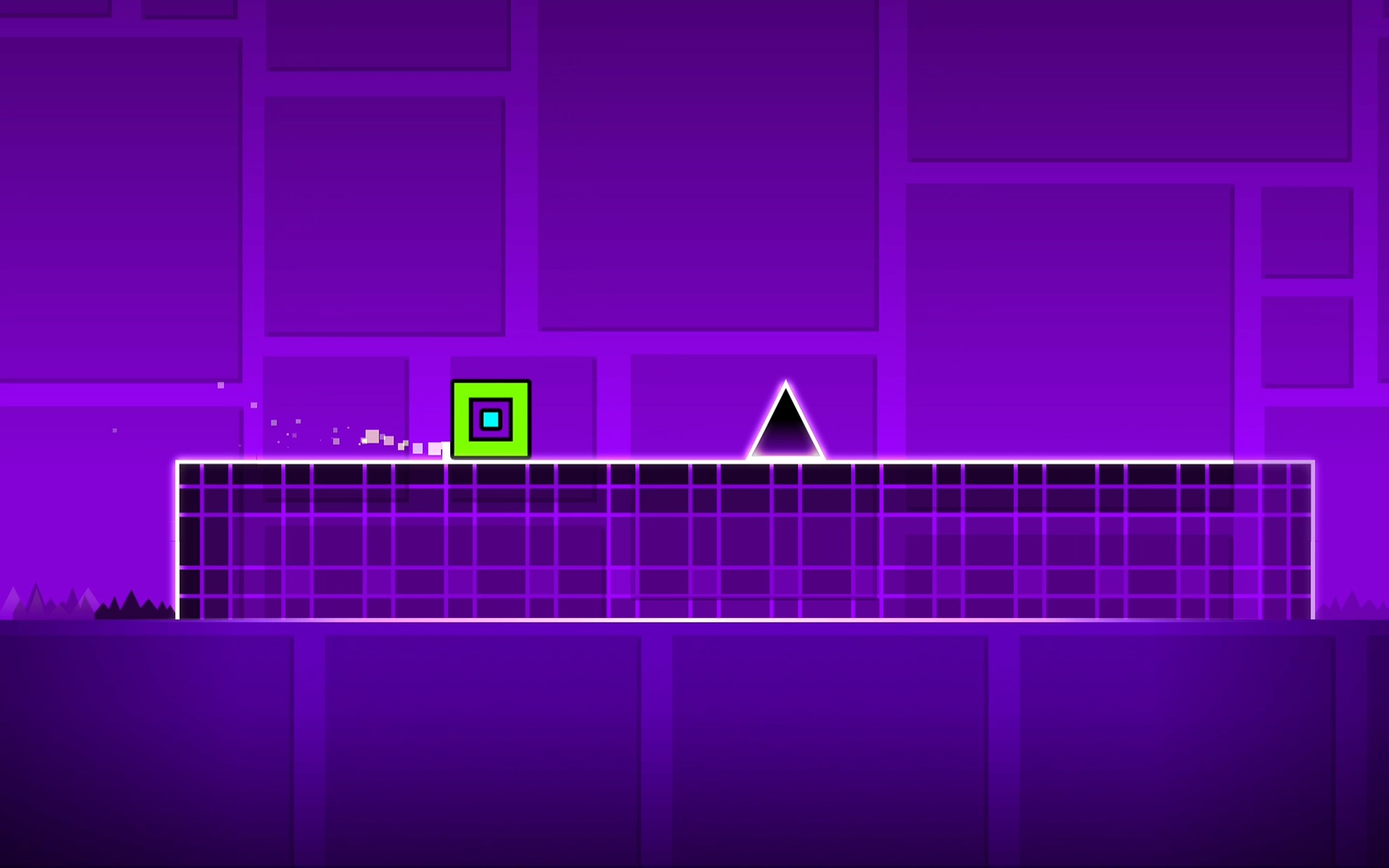Block2: (172, 457, 1308, 619)
Player: (451, 381, 531, 458)
Spike: (749, 382, 823, 458)
Spike3: (0, 574, 171, 620)
